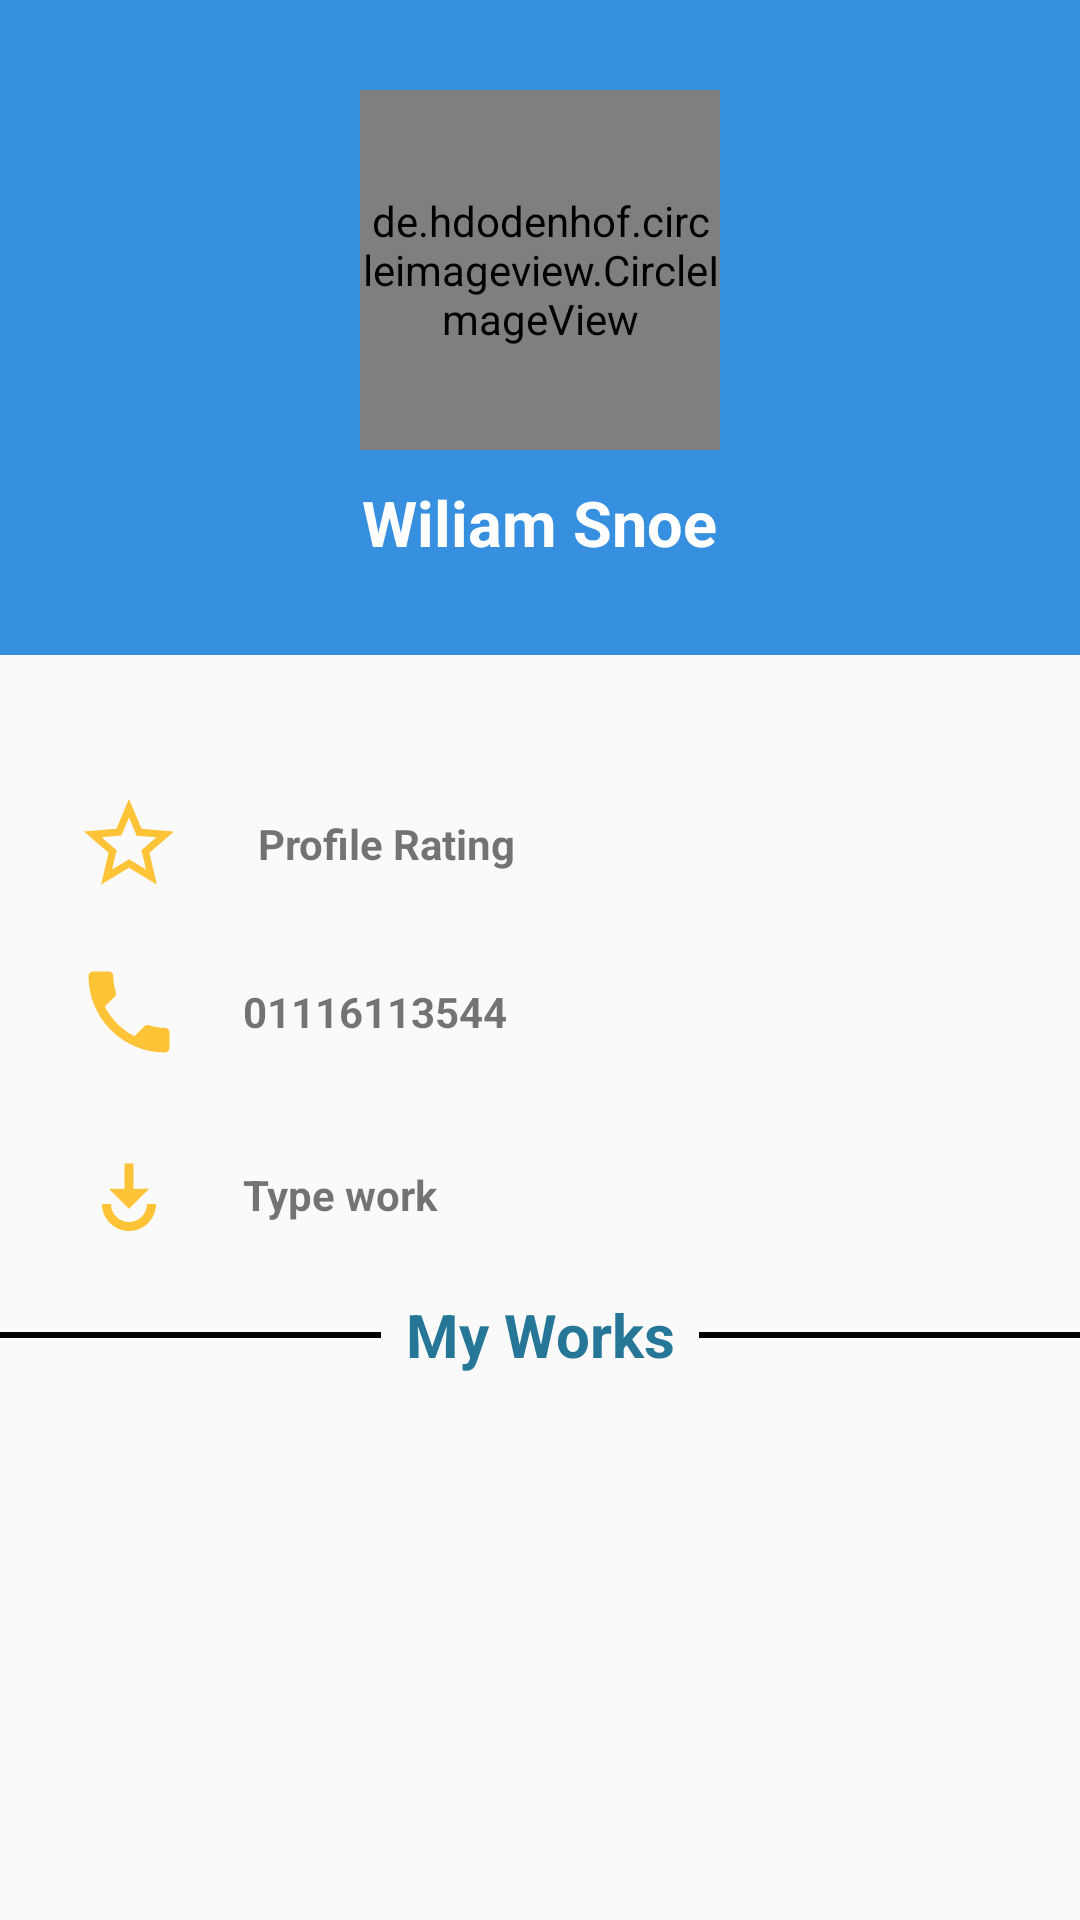

Icons on this 1080 × 1920 Android screen, each with the point to tap as point (x, y):
phone: point (129, 1012)
star: point (129, 842)
